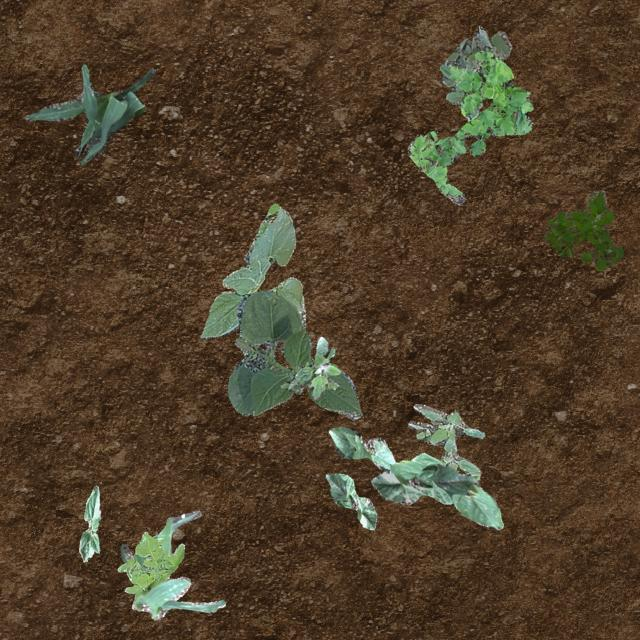crop: (226, 290, 362, 418), (200, 202, 304, 354), (24, 64, 154, 164), (120, 509, 224, 618), (388, 452, 502, 528), (370, 462, 474, 503), (328, 426, 396, 472), (324, 472, 376, 528), (78, 484, 100, 560)
weed: (406, 49, 532, 204), (438, 24, 511, 120), (542, 188, 622, 270), (406, 402, 484, 473), (116, 530, 184, 592), (280, 336, 340, 398)
